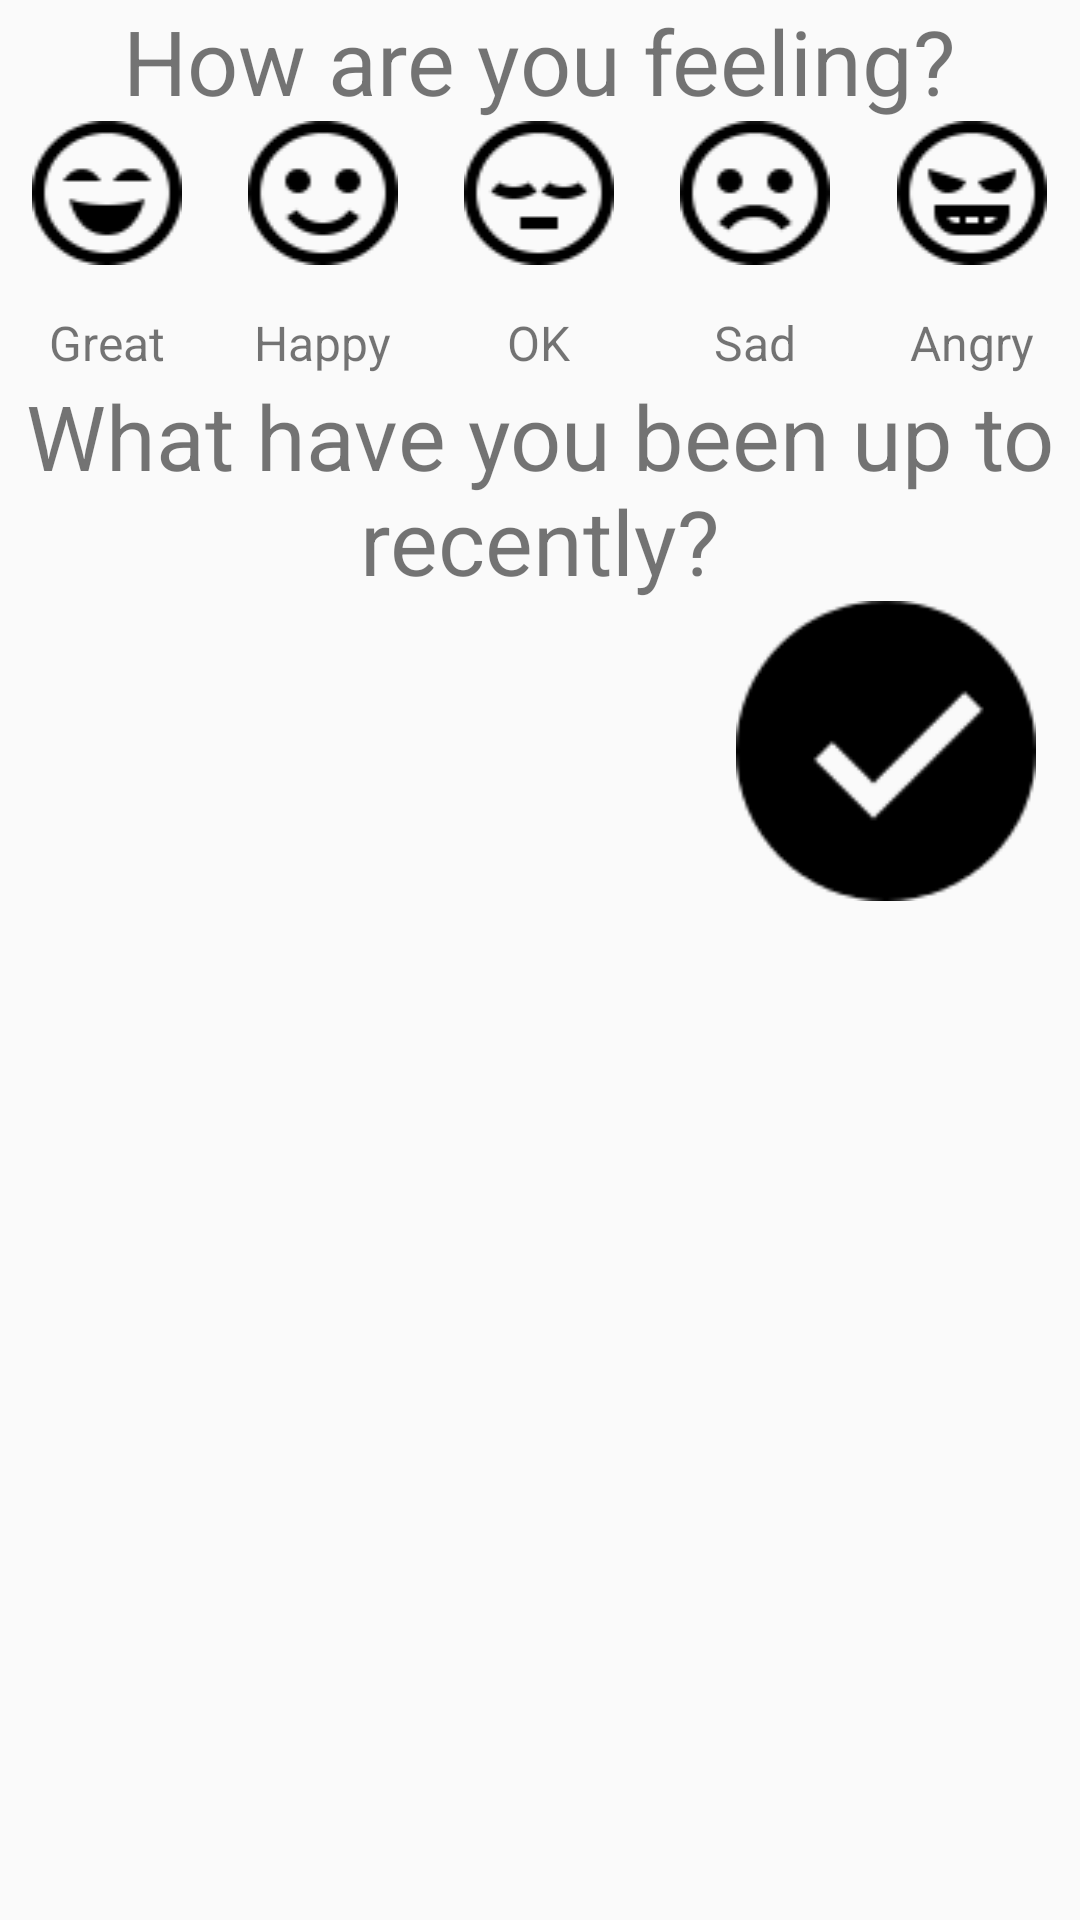

Named icons in this screenshot (1080px×1920px) and their centers, (x=x, y=y):
add mood finish: (x=886, y=751)
